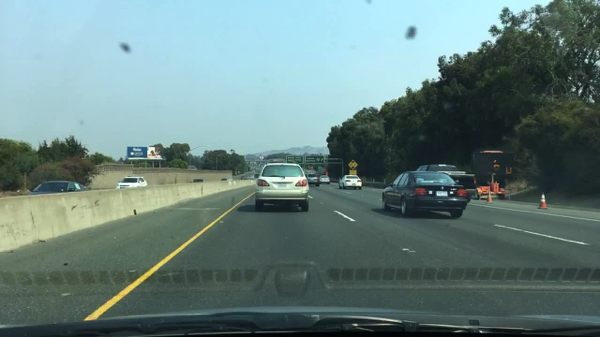car: (380, 170, 469, 219), (253, 162, 312, 211), (472, 151, 514, 200), (28, 182, 94, 195), (116, 175, 147, 191), (338, 175, 362, 190), (307, 173, 318, 187), (319, 176, 330, 184), (192, 178, 205, 183), (220, 177, 229, 181), (240, 176, 249, 180), (249, 175, 256, 179)
traffic sign: (305, 155, 325, 165), (286, 155, 304, 164), (347, 161, 358, 170), (349, 170, 356, 176), (324, 172, 329, 176)
truck: (414, 164, 477, 205)
